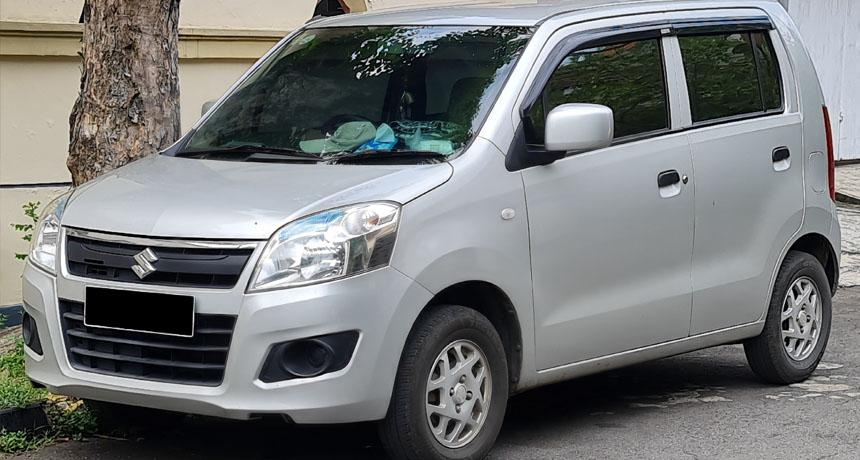Hatchback: (13, 0, 850, 453)
